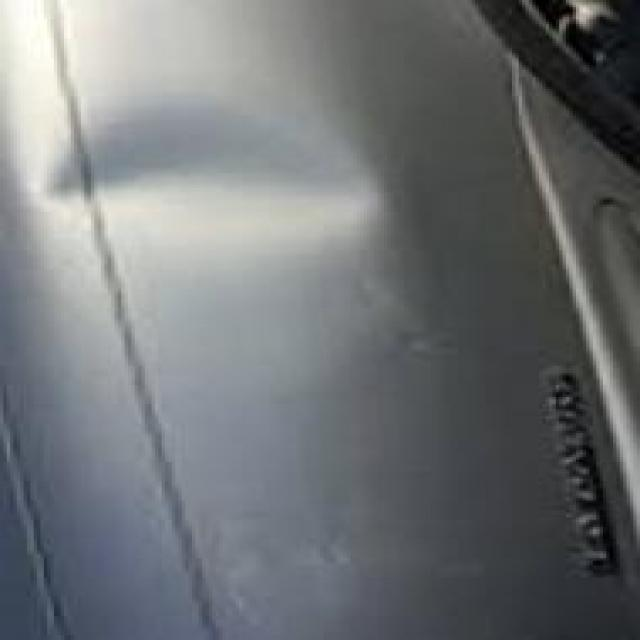dent: (29, 90, 422, 268)
